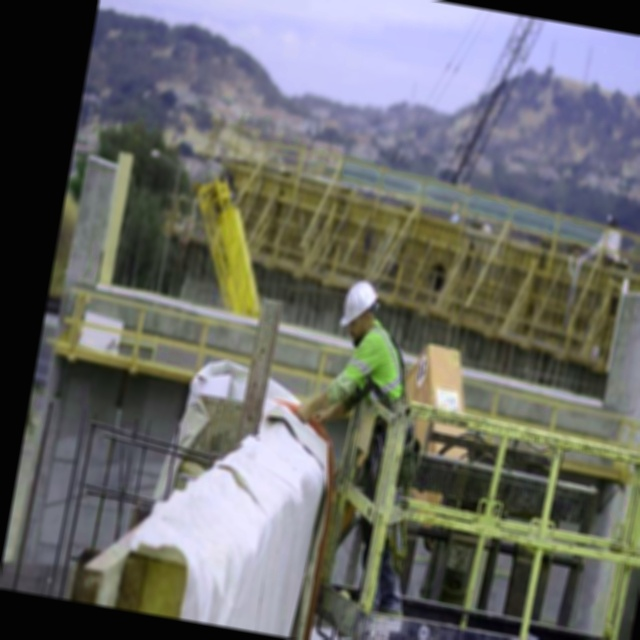Con_Casco: (337, 277, 379, 346)
